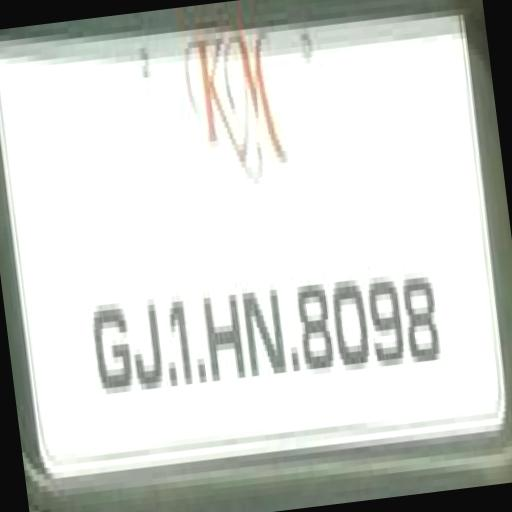number plate: (0, 0, 509, 487)
